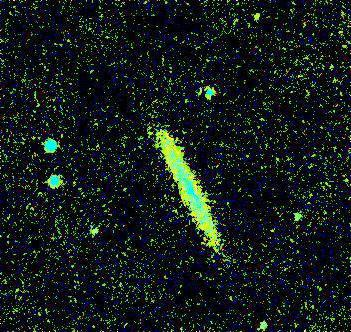star: (255, 213, 285, 243)
